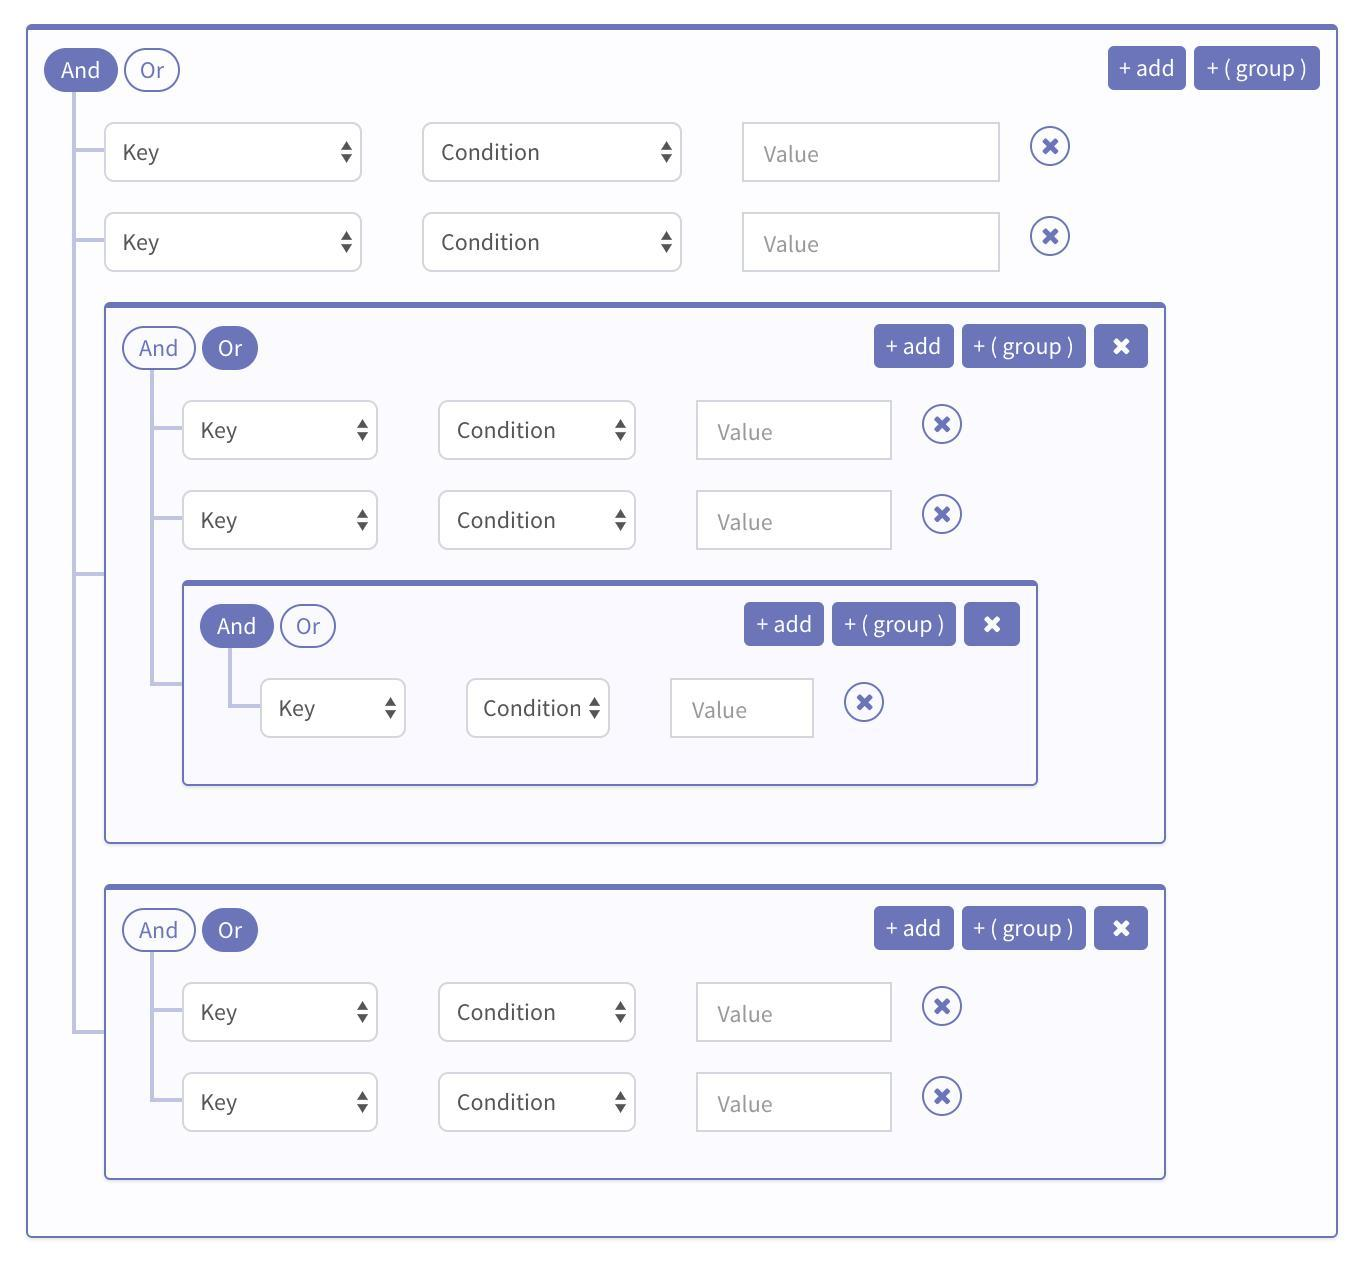button: (829, 595, 959, 651), (1192, 45, 1323, 94), (961, 906, 1091, 955), (961, 325, 1087, 373), (868, 906, 959, 959), (874, 322, 957, 373), (742, 603, 823, 651), (1106, 45, 1189, 93), (118, 325, 198, 371), (202, 605, 274, 655), (199, 321, 260, 373), (118, 912, 192, 955), (47, 49, 115, 94), (274, 605, 337, 651), (124, 49, 183, 95), (204, 906, 255, 955)
dropdown: (416, 116, 689, 191), (421, 205, 685, 282), (104, 212, 369, 277), (99, 126, 371, 186), (436, 394, 644, 470), (179, 976, 383, 1052), (179, 1066, 385, 1140), (179, 486, 383, 557), (179, 399, 387, 468), (436, 978, 638, 1048), (432, 1069, 642, 1136), (428, 492, 644, 552), (258, 672, 412, 741), (465, 674, 615, 745)
icon: (959, 599, 1023, 650), (1092, 904, 1155, 955), (915, 399, 969, 452), (1024, 122, 1080, 173), (837, 681, 891, 729), (1092, 326, 1149, 368), (921, 488, 964, 543), (915, 1074, 964, 1118), (1031, 209, 1069, 264), (921, 986, 964, 1029)
input: (736, 119, 1007, 189), (736, 212, 1007, 278), (695, 1066, 897, 1143), (692, 978, 891, 1050), (695, 488, 899, 555), (692, 399, 896, 464), (665, 678, 817, 746)
